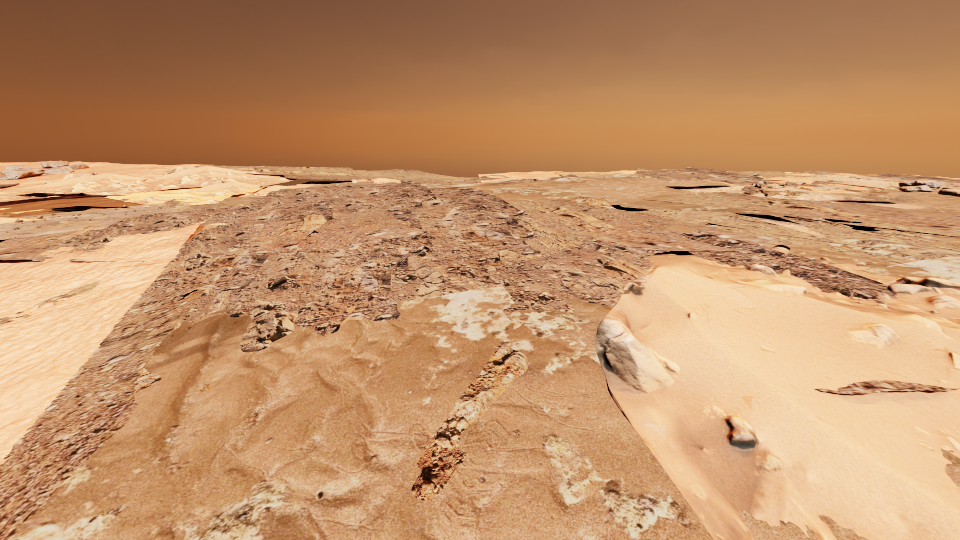bedrock: (0, 180, 668, 351), (411, 346, 527, 499), (673, 230, 897, 299), (632, 167, 959, 200), (716, 214, 959, 248), (674, 195, 873, 219), (34, 282, 99, 307), (830, 188, 916, 202), (228, 167, 359, 175), (134, 368, 162, 392), (498, 174, 577, 182), (424, 176, 502, 183), (563, 196, 617, 205), (172, 314, 189, 330), (377, 173, 422, 178), (580, 173, 621, 177), (644, 209, 682, 212), (197, 384, 211, 392), (561, 315, 577, 322), (0, 317, 14, 323), (0, 183, 17, 187), (513, 321, 521, 328)
rocks: (0, 160, 88, 179), (899, 180, 940, 191), (938, 183, 959, 196)
sand: (7, 287, 713, 539), (0, 221, 224, 463), (420, 171, 805, 216), (761, 237, 959, 281), (797, 184, 959, 213), (88, 187, 260, 205), (740, 509, 819, 539), (68, 162, 196, 178), (0, 173, 70, 190), (818, 515, 867, 539), (941, 449, 959, 487), (903, 232, 959, 243), (0, 196, 73, 204), (0, 162, 41, 171), (291, 181, 351, 187), (762, 177, 816, 183)
soil: (543, 274, 847, 539), (0, 280, 220, 539), (510, 198, 937, 264), (673, 186, 959, 237), (250, 206, 424, 253), (0, 180, 204, 217), (214, 166, 470, 185), (735, 266, 834, 298), (445, 234, 555, 262), (418, 256, 495, 289), (815, 380, 952, 394), (0, 234, 65, 260), (842, 269, 909, 283), (906, 242, 959, 251), (861, 304, 906, 314), (670, 186, 743, 192), (832, 181, 887, 188), (936, 287, 959, 300), (192, 202, 226, 209), (80, 245, 106, 254), (154, 199, 191, 205), (843, 224, 879, 230), (731, 171, 784, 175), (168, 254, 191, 263), (787, 170, 836, 174), (207, 248, 243, 253), (233, 194, 260, 199), (922, 278, 937, 286), (811, 177, 840, 181), (206, 179, 225, 185), (250, 213, 263, 221), (773, 247, 789, 253), (253, 190, 268, 194), (67, 259, 96, 261), (257, 268, 271, 272), (73, 174, 88, 177)
